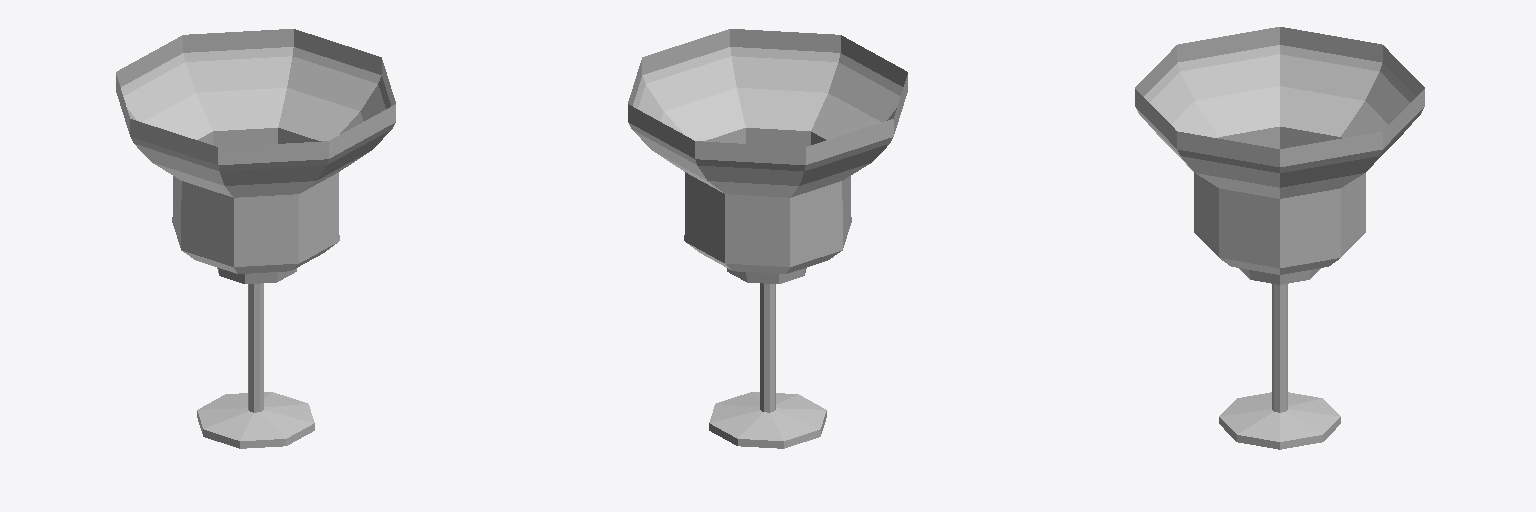
The model's file is sercups_margarita_glass.obj.
3 renders of one model, left to right at view 1: azimuth 30°, elevation 25°; view 2: azimuth 150°, elevation 25°; view 3: azimuth 270°, elevation 25°, orthographic.
Visible parts, largest first — view 1: sercups_margarita_glass_Cylinder.112; view 2: sercups_margarita_glass_Cylinder.112; view 3: sercups_margarita_glass_Cylinder.112.
Part boxes in pixels (x1,y1,x2,y2): sercups_margarita_glass_Cylinder.112: (116, 29, 395, 448); sercups_margarita_glass_Cylinder.112: (628, 29, 907, 448); sercups_margarita_glass_Cylinder.112: (1135, 27, 1424, 449).
Size of the model in its own units: 3.02 by 3.85 by 3.02.